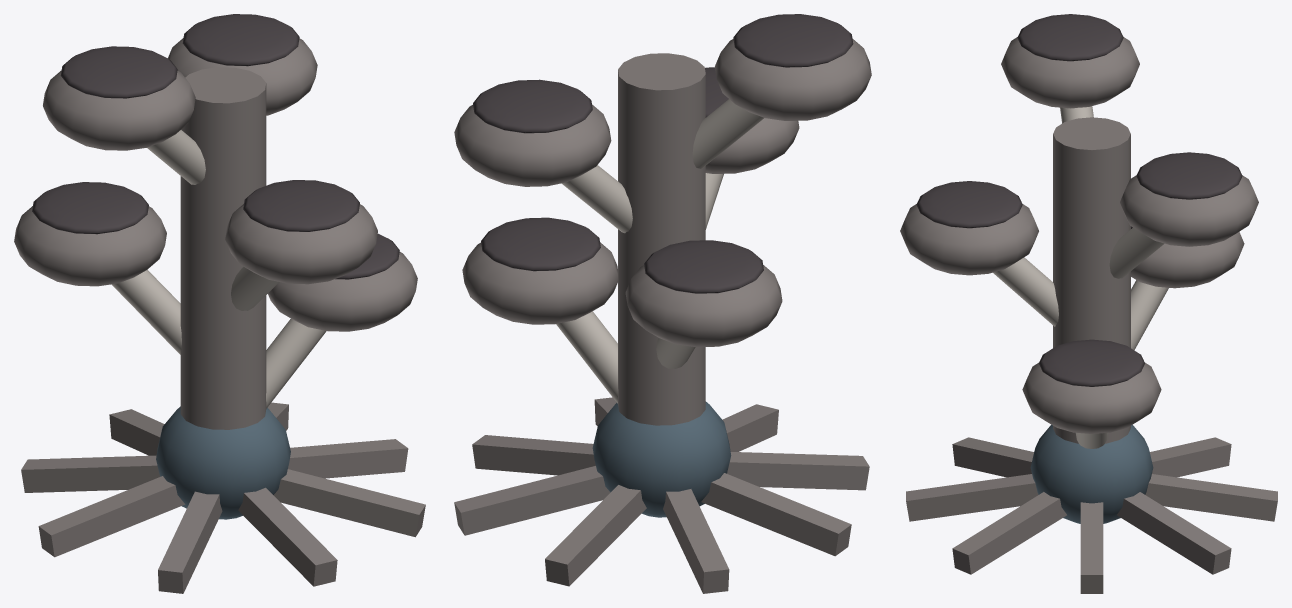
The model's file is CMU3DHiveCMU14PathogenClusterConstructionNode.glb.
The picture shows the model from 3 angles, left to right: view 1: azimuth 30°, elevation 25°; view 2: azimuth 150°, elevation 25°; view 3: azimuth 270°, elevation 25°; orthographic projection. The views are drawn at different scales.
Visible parts, largest first — view 1: fluted hive chimney (×5), anchoring root (×7), central branching trunk, dark chimney throat (×5), construction bud, raised organ branch (×4); view 2: fluted hive chimney (×5), anchoring root (×7), central branching trunk, dark chimney throat (×5), construction bud, raised organ branch (×5); view 3: fluted hive chimney (×5), anchoring root (×7), central branching trunk, dark chimney throat (×4), construction bud, raised organ branch (×3).
Part boxes in pixels (<box>): fluted hive chimney (×5): <box>14,38,417,331</box>; anchoring root (×7): <box>21,409,425,593</box>; central branching trunk: <box>180,67,266,429</box>; dark chimney throat (×5): <box>32,14,399,279</box>; construction bud: <box>156,406,290,519</box>; raised organ branch (×4): <box>111,130,326,408</box>; fluted hive chimney (×5): <box>454,38,871,347</box>; anchoring root (×7): <box>454,404,869,593</box>; central branching trunk: <box>618,53,705,425</box>; dark chimney throat (×5): <box>473,14,853,293</box>; construction bud: <box>592,401,731,517</box>; raised organ branch (×5): <box>556,99,763,403</box>; fluted hive chimney (×5): <box>900,37,1258,433</box>; anchoring root (×7): <box>906,437,1277,593</box>; central branching trunk: <box>1053,117,1130,443</box>; dark chimney throat (×4): <box>916,14,1242,386</box>; construction bud: <box>1030,424,1153,523</box>; raised organ branch (×3): <box>993,227,1168,350</box>.
Bounding box in the file's own units: 0.9354 × 1.18 × 0.9231.
